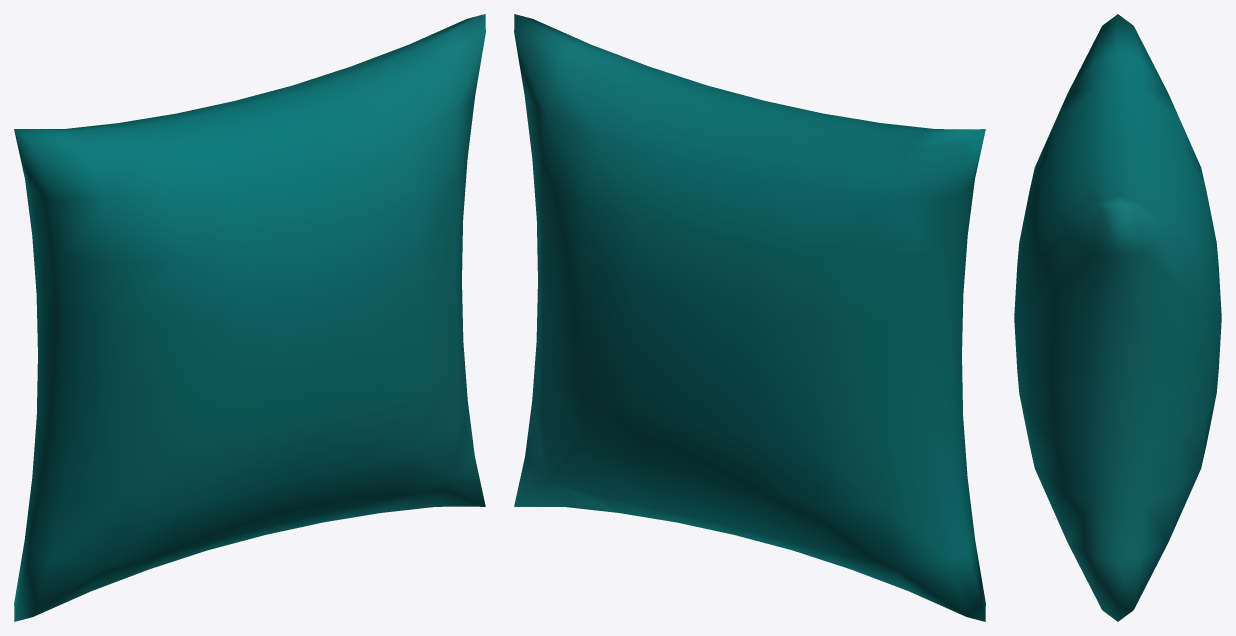
The model's file is fef5da97-efa2-4937-9951-3847797cad73.glb.
The picture shows the model from 3 angles, left to right: view 1: azimuth 30°, elevation 25°; view 2: azimuth 150°, elevation 25°; view 3: azimuth 270°, elevation 25°; orthographic projection. The views are drawn at different scales.
Visible parts, largest first — view 1: StandardPillowTeal; view 2: StandardPillowTeal; view 3: StandardPillowTeal.
Boxes of the visible parts, <box> form: StandardPillowTeal: <box>14,14,485,621</box>; StandardPillowTeal: <box>514,14,985,621</box>; StandardPillowTeal: <box>1014,14,1221,621</box>.
Size of the model in its own units: 0.6356 by 0.6356 by 0.2884.
1 material, 1 textured.
